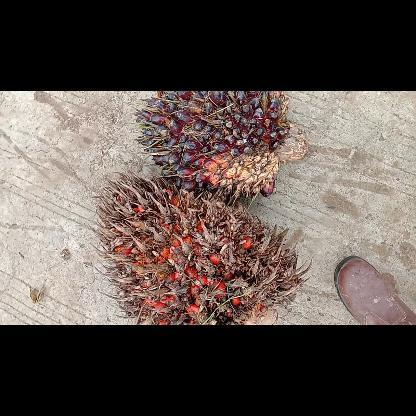TBS mentah: (131, 90, 308, 206)
Terlalu masak: (90, 172, 310, 324)
